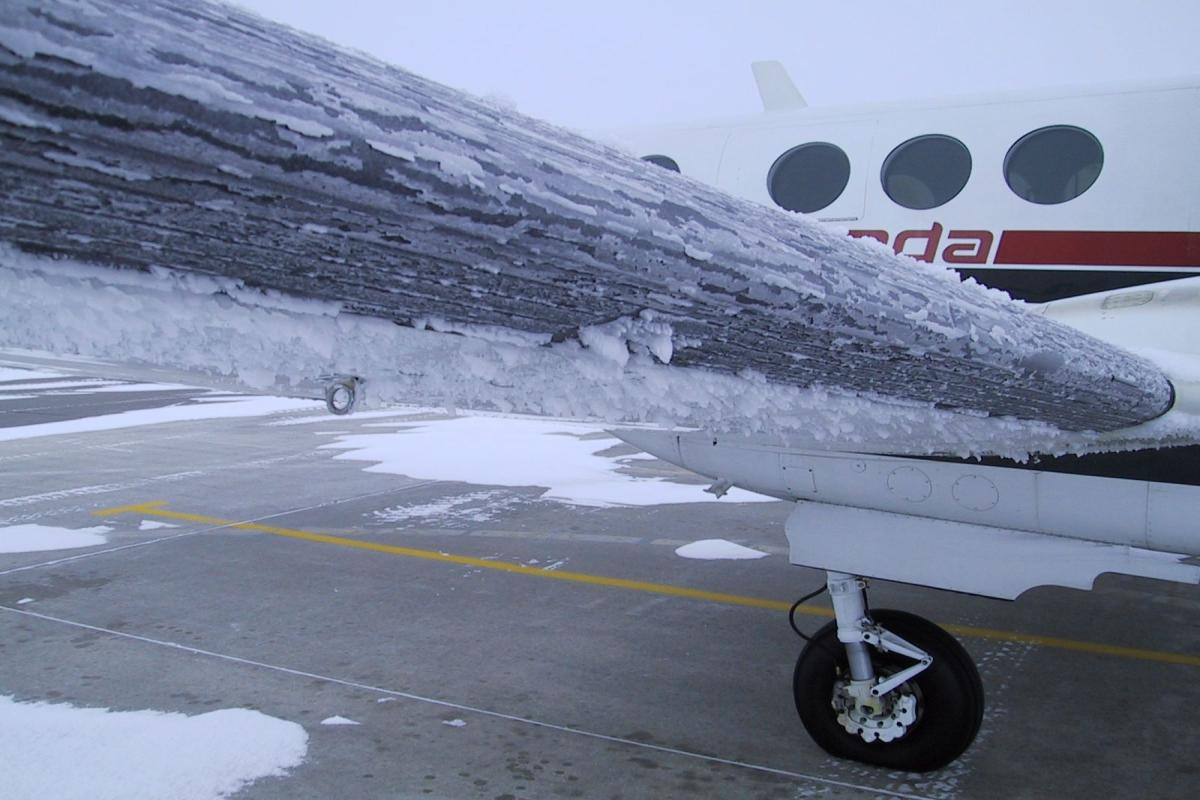Fuselage_damage: (0, 0, 1173, 463)
